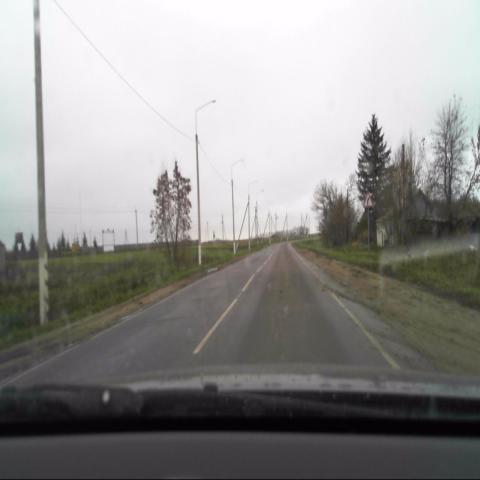1_11: (363, 193, 373, 208)
